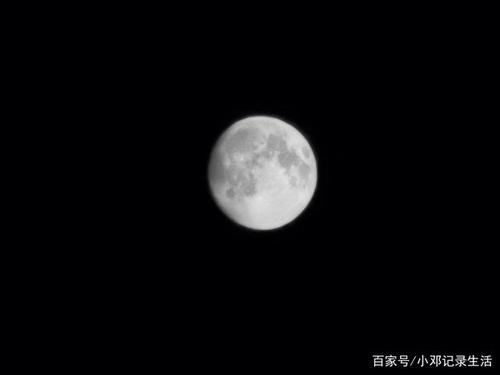moon: (205, 114, 319, 232)
